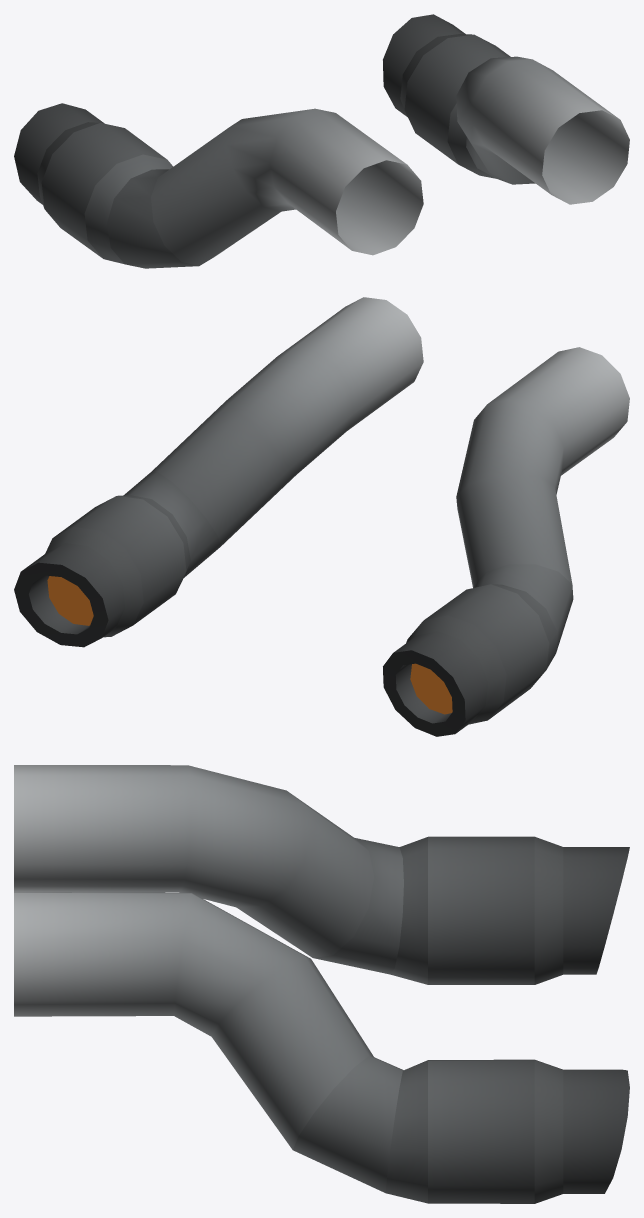
File: Car_12_Pipe_Cool.fbx
The picture shows the model from 3 angles, top to bottom: view 1: azimuth 30°, elevation 25°; view 2: azimuth 150°, elevation 25°; view 3: azimuth 270°, elevation 25°; orthographic projection. The views are drawn at different scales.
Parts seen in each view (by area): view 1: Car_12_Pipe_Cool; view 2: Car_12_Pipe_Cool; view 3: Car_12_Pipe_Cool.
Part boxes in pixels (x1=…): Car_12_Pipe_Cool: x1=14, y1=14, x2=629, y2=268; Car_12_Pipe_Cool: x1=14, y1=297, x2=629, y2=736; Car_12_Pipe_Cool: x1=14, y1=765, x2=629, y2=1203.
Bounding box in the file's own units: 81.64 × 75.08 × 34.1.
